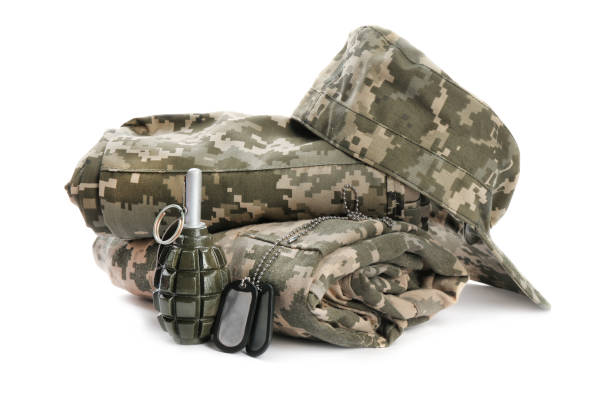e1: (151, 170, 224, 347)
